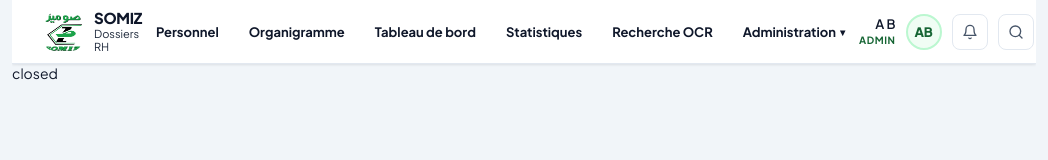
Test: Navbar (desktop) — icône de recherche › ouvre la palette de commandes au clic
The image size is (1048, 160).
expect the text with test id "palette-state" reads "closed": met, box x1=12 y1=64 x2=58 y2=82
What coordinates should you click on to do the following:
click the button named "Recherche rapide"
I would click on:
 (1016, 32)
Its box is x1=998 y1=14 x2=1034 y2=50.
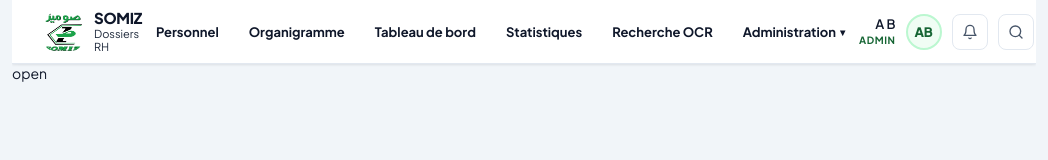
expect the text with test id "palette-state" reads "open": met, box x1=12 y1=64 x2=47 y2=82
